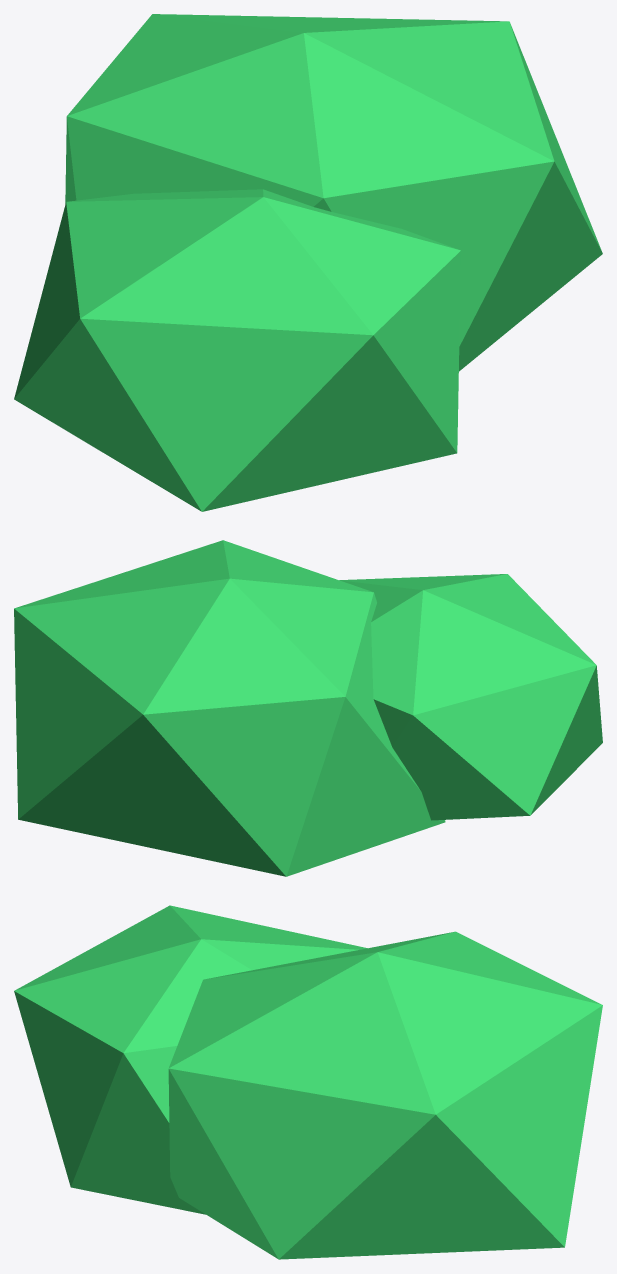
Rendered from bush 2.fbx.
3 views of the same model, one above another, from view 1: azimuth 30°, elevation 25°; view 2: azimuth 150°, elevation 25°; view 3: azimuth 270°, elevation 25° (orthographic). The views are drawn at different scales.
Visible parts, largest first — view 1: Icosphere.004; view 2: Icosphere.004; view 3: Icosphere.004.
Part boxes in pixels (x1=…): Icosphere.004: x1=14, y1=14, x2=602, y2=511; Icosphere.004: x1=14, y1=540, x2=602, y2=876; Icosphere.004: x1=14, y1=905, x2=602, y2=1259.
Bounding box in the file's own units: 89.6 × 44.65 × 90.37.
